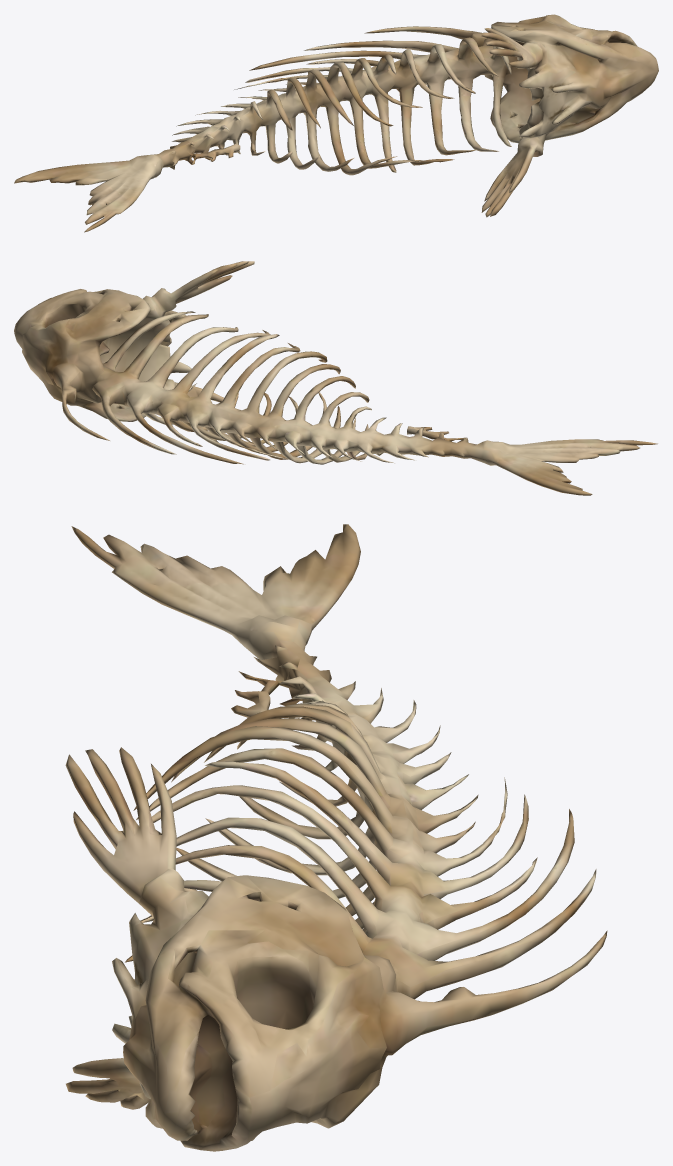
The model's file is bone_whole_l.glb.
The picture shows the model from 3 angles, top to bottom: view 1: azimuth 30°, elevation 25°; view 2: azimuth 150°, elevation 25°; view 3: azimuth 270°, elevation 25°; orthographic projection. The views are drawn at different scales.
Parts seen in each view (by area): view 1: bone_whole_l; view 2: bone_whole_l; view 3: bone_whole_l.
Boxes of the visible parts, x1,y1,x2,y2 form: bone_whole_l: [14, 14, 658, 232]; bone_whole_l: [14, 261, 657, 495]; bone_whole_l: [65, 524, 607, 1151].
Bounding box in the file's own units: 0.3 × 0.0854 × 0.1168.
Materials: 1 (1 with a texture image).
